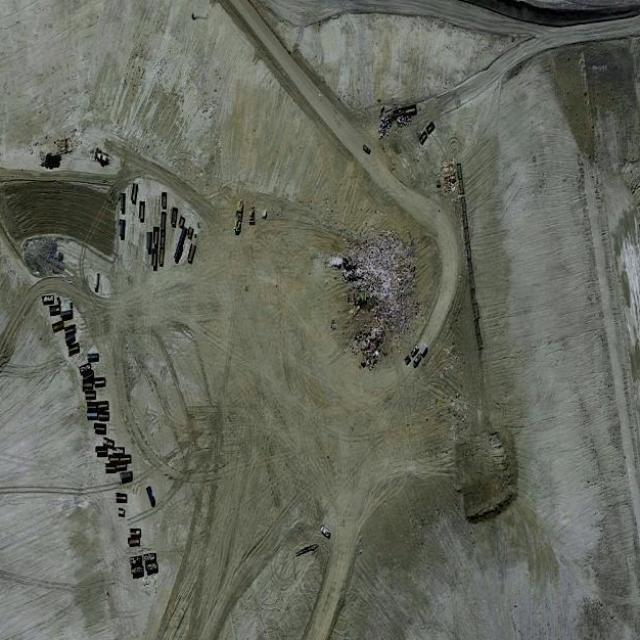dump_site: (322, 229, 420, 374)
